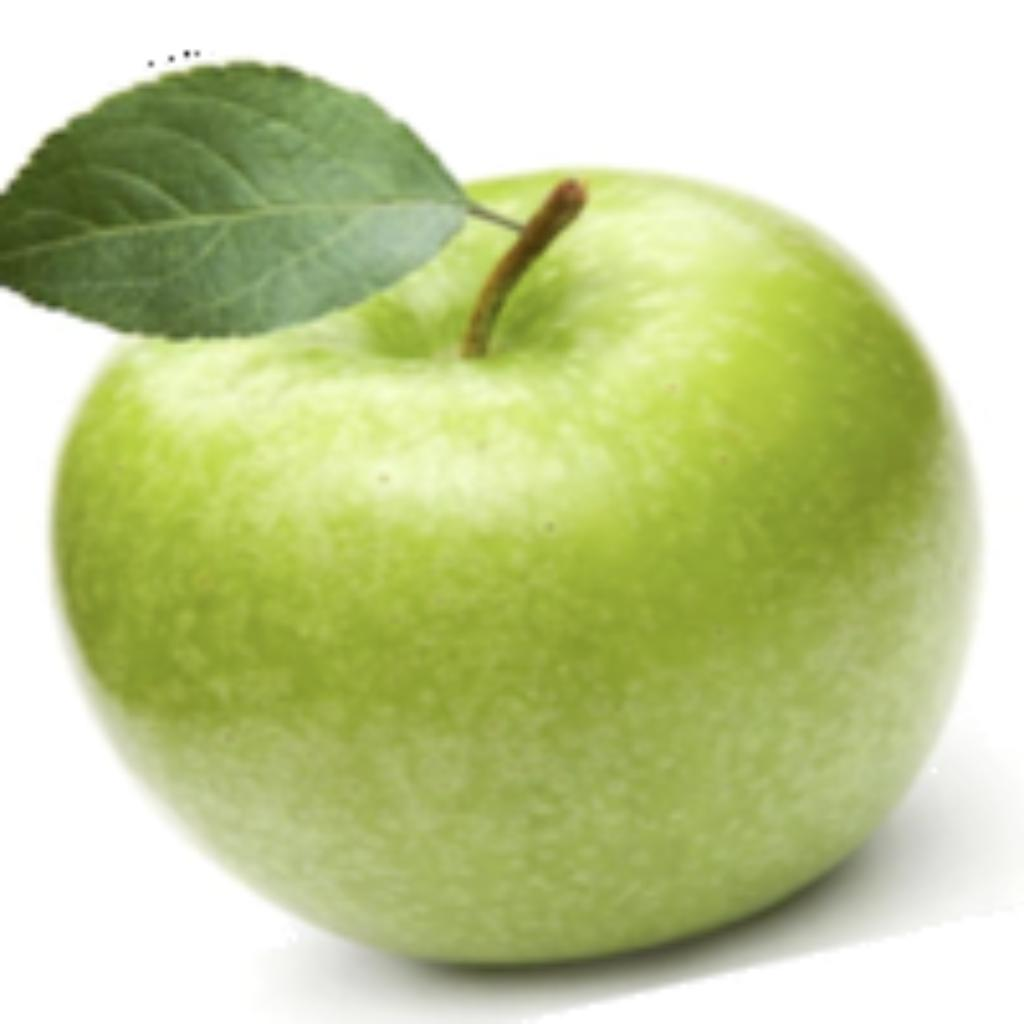apple: (0, 46, 988, 1019)
